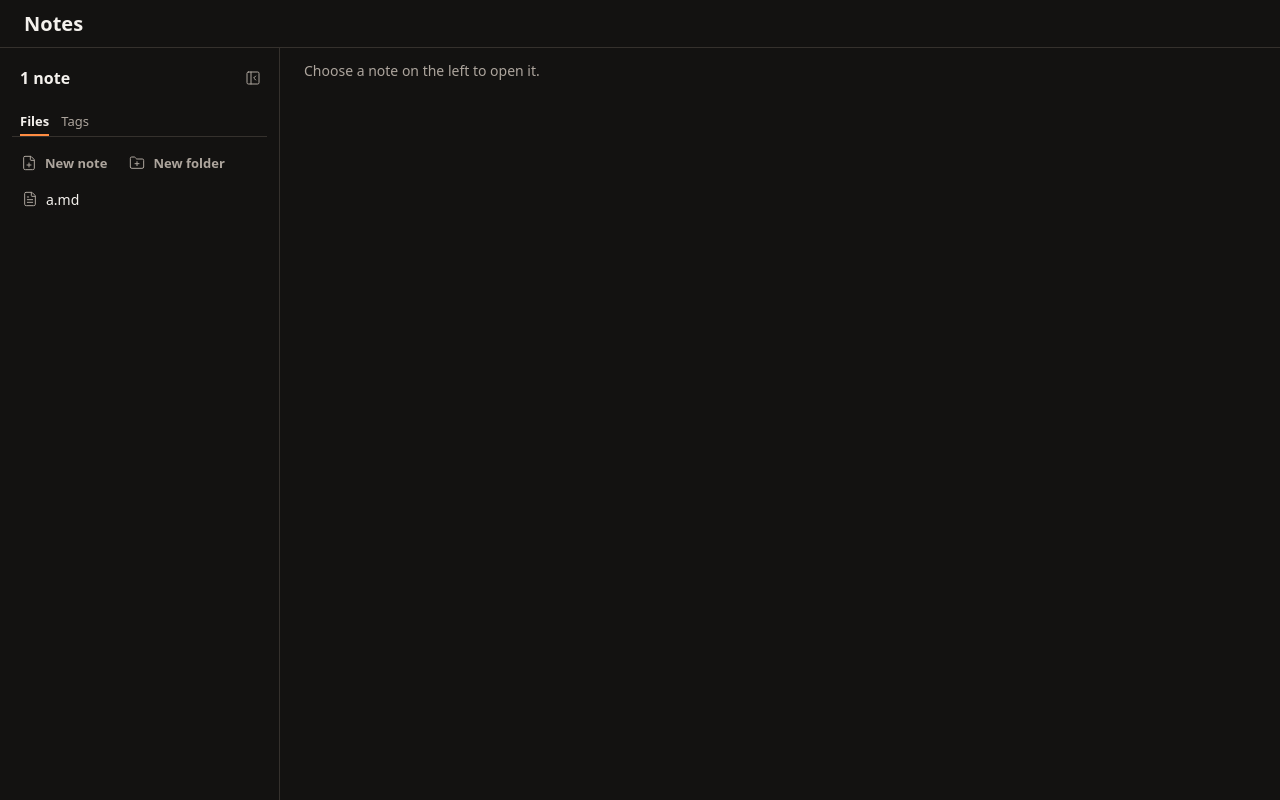
Test: a tag the Tags list no longer knows says so instead of an empty tree
Expected: the text "1 note" is shown, 20,67 -> 70,89
Click the tab "Tags". click: {"x": 75, "y": 122}
box: 61,108 -> 89,136
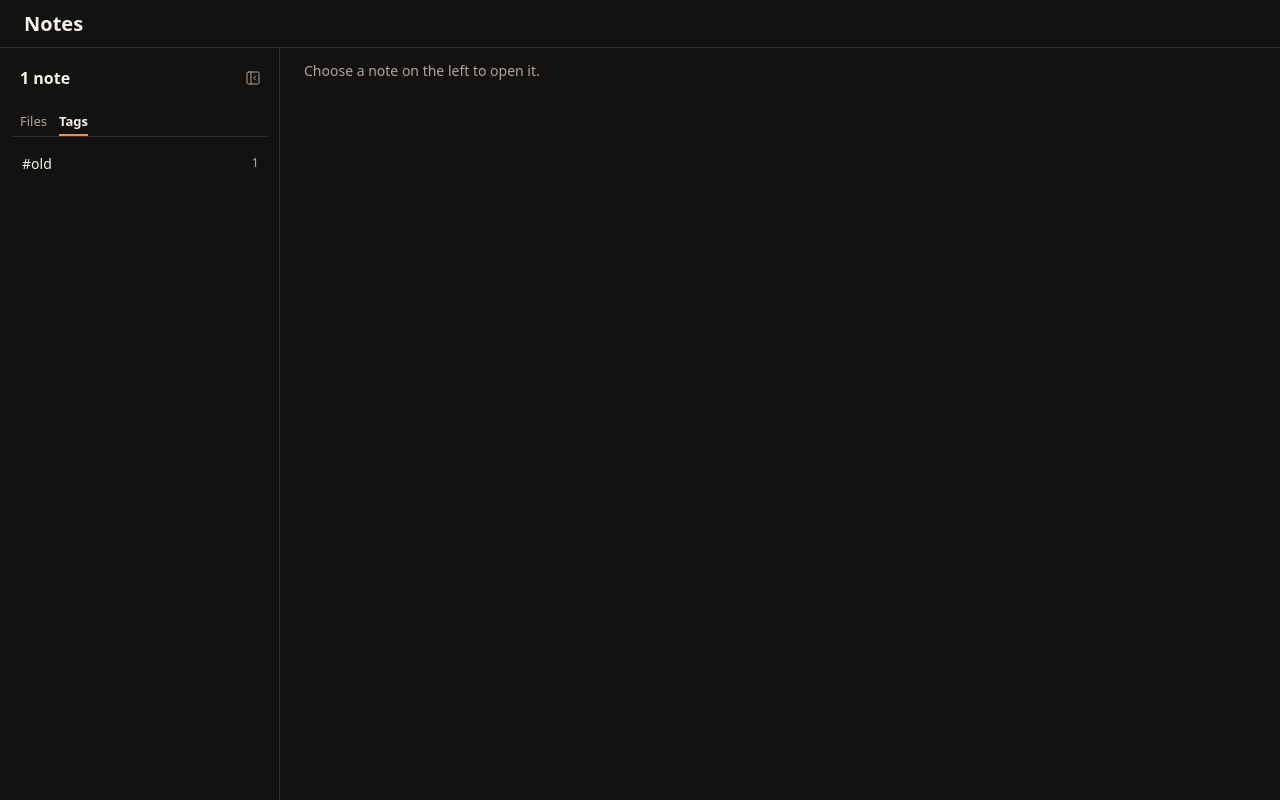
Click the button named "#old 1 note". click: {"x": 140, "y": 163}
box: 12,149 -> 267,177
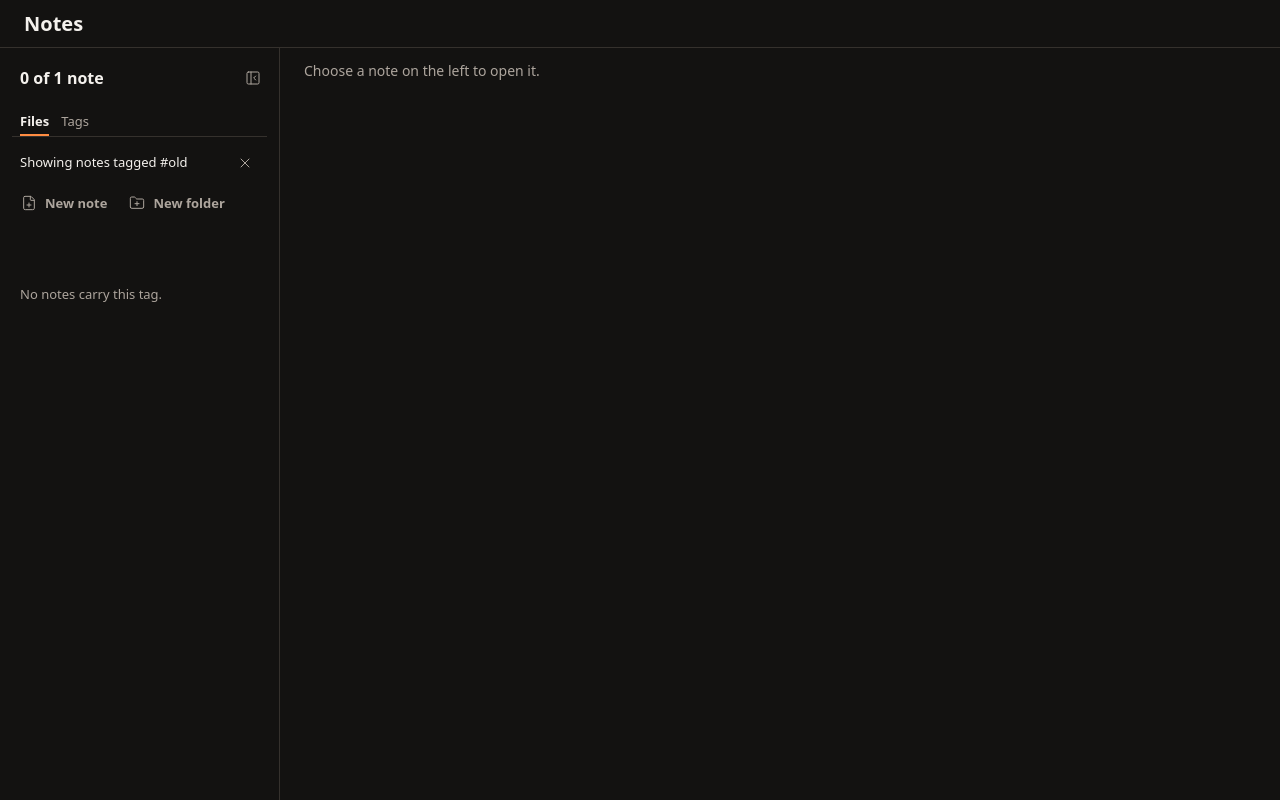
Now the text "No notes carry this tag." is shown, box 20,285 -> 162,303
